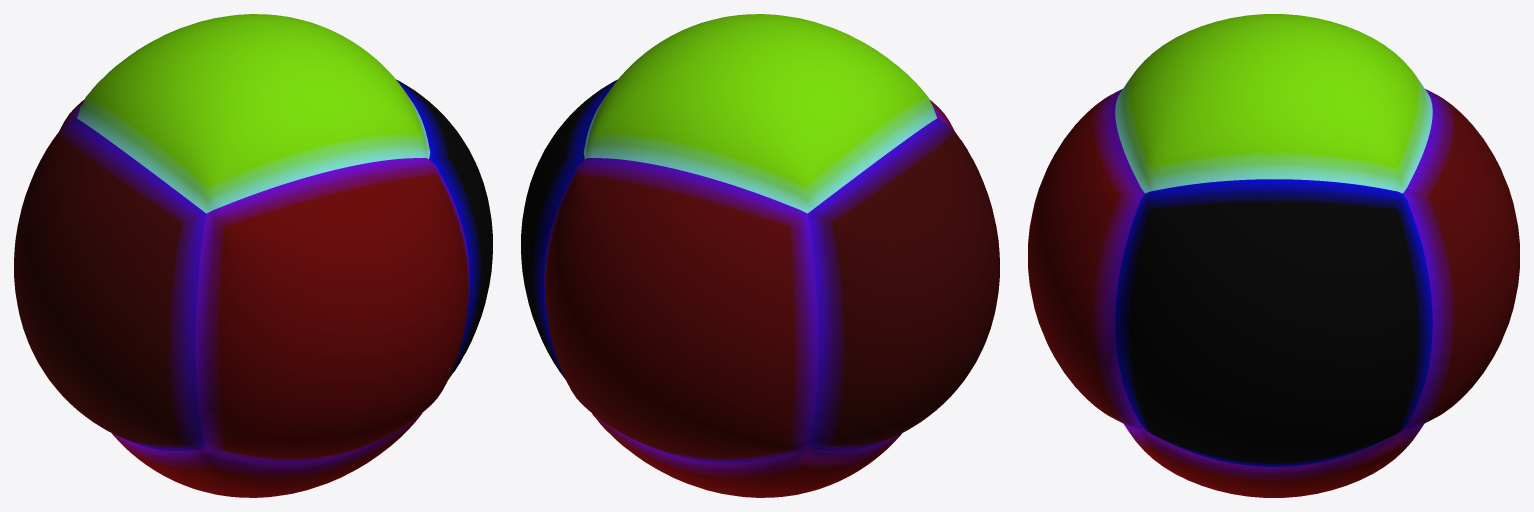
The model's file is planet.glb.
3 views of the same model, side by side, from view 1: azimuth 30°, elevation 25°; view 2: azimuth 150°, elevation 25°; view 3: azimuth 270°, elevation 25° (orthographic).
Parts seen in each view (by area): view 1: planet; view 2: planet; view 3: planet.
Part boxes in pixels (x1,y1,x2,y2): planet: (14,14,492,497); planet: (521,14,999,497); planet: (1028,14,1519,497).
Bounding box in the file's own units: 2.07 × 2.07 × 2.07.
